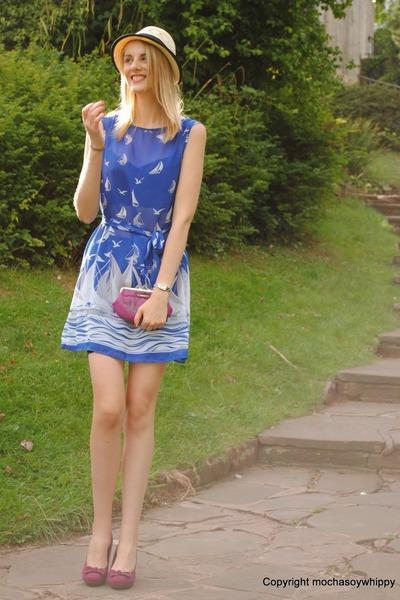bag: (112, 289, 150, 333)
dress: (61, 115, 194, 363)
hat: (101, 22, 174, 59)
shoe: (84, 546, 135, 591)
